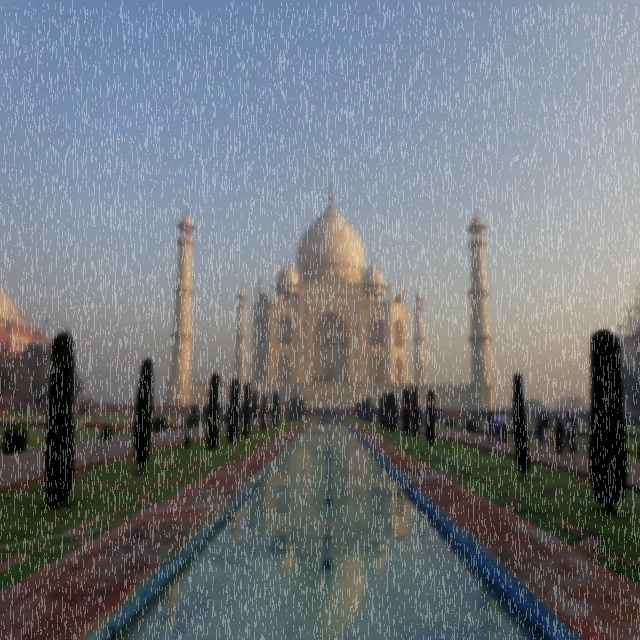pessoa: (564, 410, 579, 455), (552, 413, 566, 453), (484, 410, 496, 444), (542, 412, 553, 448), (492, 411, 502, 444), (535, 414, 544, 448), (500, 410, 508, 443), (311, 374, 336, 384), (153, 400, 166, 414), (322, 406, 336, 416), (421, 408, 427, 428), (202, 404, 208, 424), (220, 406, 226, 424), (196, 406, 202, 424), (0, 402, 5, 420), (418, 409, 422, 427), (94, 405, 98, 422), (71, 405, 79, 413), (97, 407, 101, 422), (192, 404, 196, 414), (376, 408, 379, 419), (473, 416, 477, 424), (115, 404, 118, 413), (374, 408, 376, 419), (95, 405, 99, 410), (320, 407, 322, 416), (333, 408, 335, 417), (176, 400, 178, 408), (92, 398, 95, 403), (510, 404, 512, 411), (132, 399, 134, 406), (110, 398, 112, 404), (133, 399, 135, 405), (384, 380, 387, 384), (398, 381, 402, 384), (318, 407, 320, 412), (289, 379, 291, 382)
